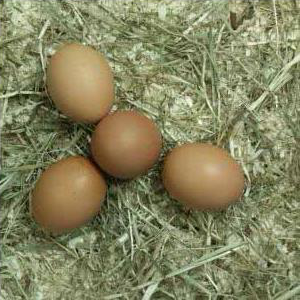egg: (161, 143, 246, 211), (31, 157, 107, 231), (46, 43, 114, 124), (91, 111, 161, 180)
